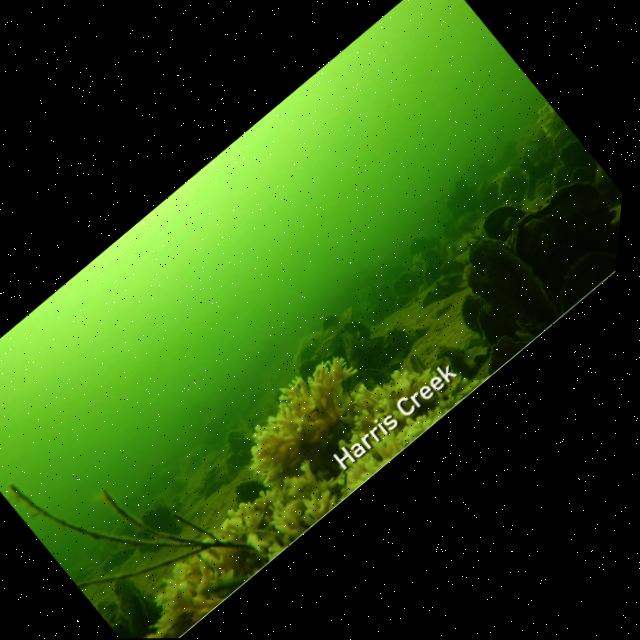Oyster-Closed: (103, 547, 136, 572), (197, 466, 219, 495)
Oyster-Indeterminate: (513, 182, 615, 297), (470, 239, 560, 325), (561, 252, 617, 312), (115, 580, 161, 639), (478, 304, 519, 344), (482, 206, 526, 241), (489, 336, 528, 374), (469, 238, 510, 273), (98, 601, 133, 639), (142, 504, 181, 534), (344, 333, 383, 363), (498, 167, 529, 203), (559, 139, 595, 169), (343, 332, 370, 371), (198, 466, 228, 499), (433, 273, 463, 301), (462, 294, 484, 332), (477, 180, 503, 212), (314, 331, 342, 358), (236, 480, 268, 503), (383, 327, 410, 354), (553, 124, 578, 151), (393, 271, 418, 296), (423, 258, 444, 287), (363, 368, 390, 390), (408, 237, 440, 255), (595, 162, 613, 191), (298, 359, 321, 381), (226, 450, 251, 470), (440, 259, 466, 276), (571, 167, 595, 183), (230, 438, 255, 453), (395, 294, 419, 309), (553, 164, 572, 182), (225, 464, 242, 484), (336, 307, 353, 327), (536, 181, 553, 200), (503, 216, 518, 236), (321, 324, 340, 339), (170, 479, 187, 494), (238, 449, 253, 465), (422, 291, 437, 307), (227, 430, 244, 444), (508, 192, 523, 206), (553, 178, 570, 190), (418, 283, 427, 295)
Oyster-Open: (437, 346, 477, 379), (410, 355, 426, 373)
